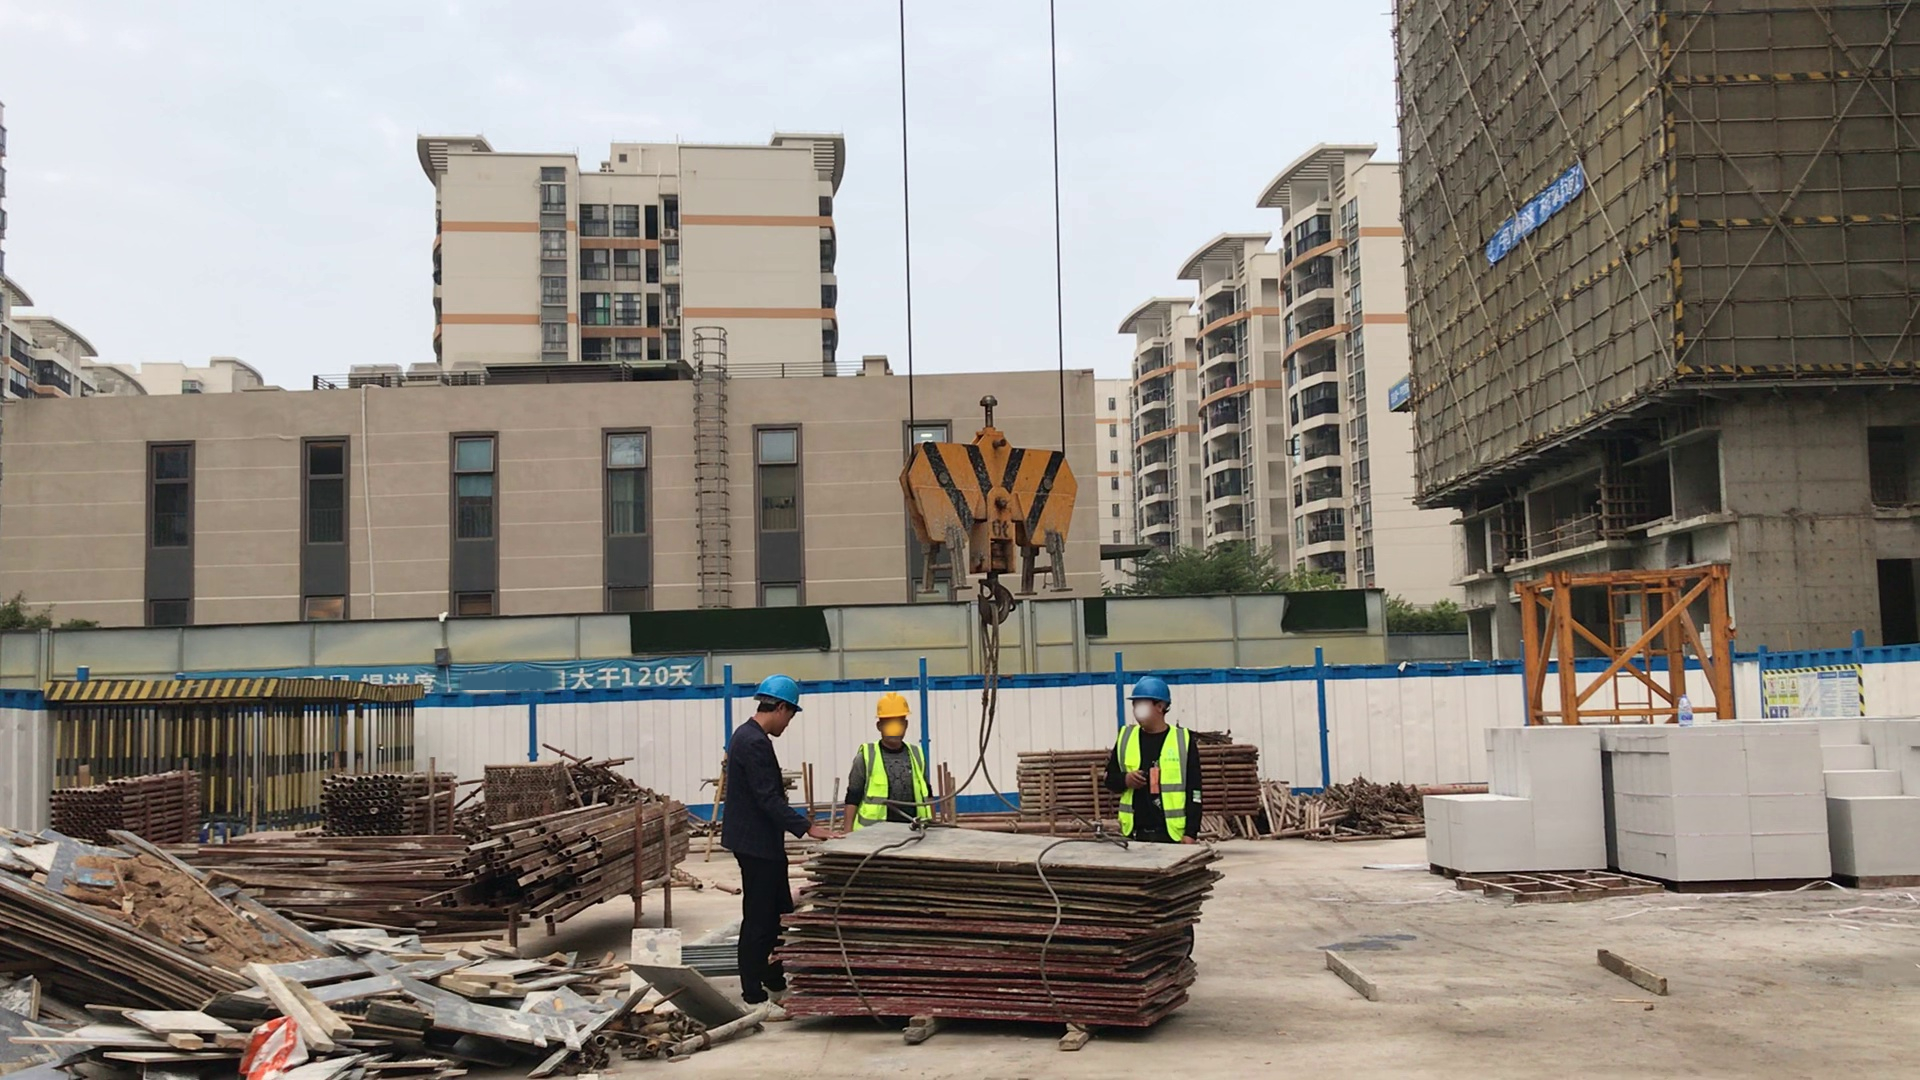board: (773, 817, 1229, 1034)
helmet: (755, 674, 803, 708), (1123, 676, 1175, 705), (876, 693, 908, 720)
hook: (891, 424, 1092, 624)
person: (718, 669, 806, 1023), (1103, 671, 1223, 843), (844, 689, 947, 828)
scaffold: (55, 770, 207, 845), (324, 768, 452, 838), (1020, 750, 1109, 812), (483, 760, 574, 818), (1206, 749, 1259, 811)
slogan: (317, 661, 694, 690), (1484, 162, 1581, 269), (1763, 675, 1873, 717)
vest: (1116, 723, 1188, 840), (858, 739, 927, 826)
wood: (1422, 713, 1920, 884)
